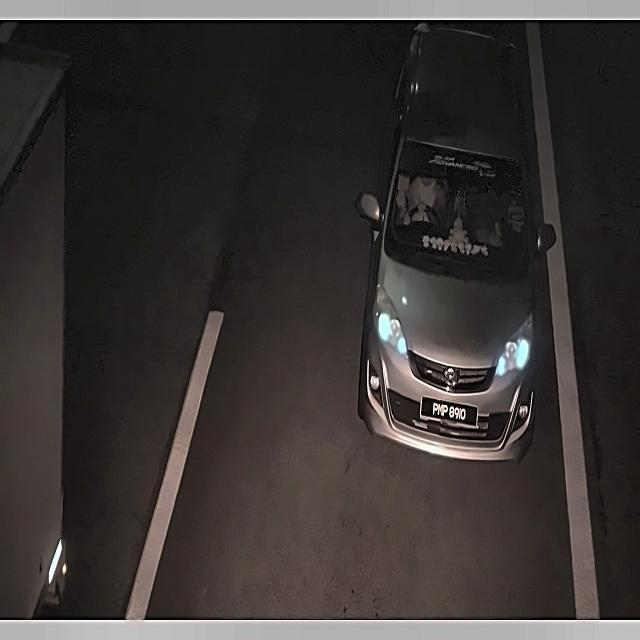car: (416, 387, 482, 432)
